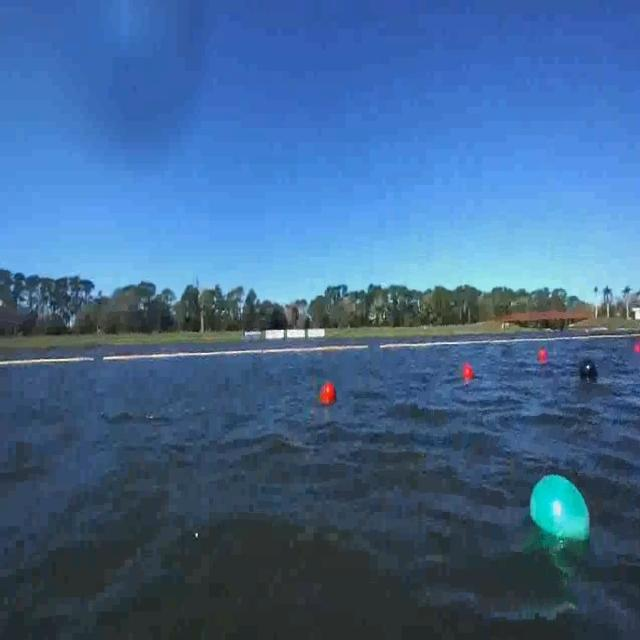black-buoy: (580, 357, 599, 381)
green-buoy: (529, 475, 591, 544)
red-buoy: (323, 380, 341, 405), (464, 362, 476, 381), (538, 349, 548, 364), (634, 343, 640, 355)
